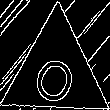O_NE: (28, 39, 84, 105)
